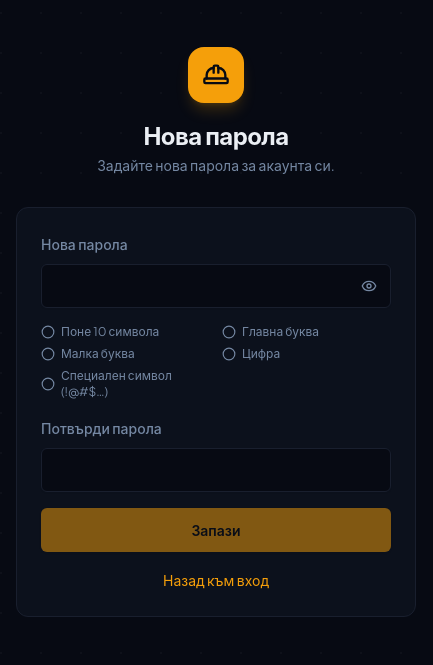
Test: a reset the server could not commit keeps the form and says to try again
Step 1. Type "Brand-New-Pass-77!" into the password field with test id "reset-new-password" → (216, 286), box [41,264,391,308]
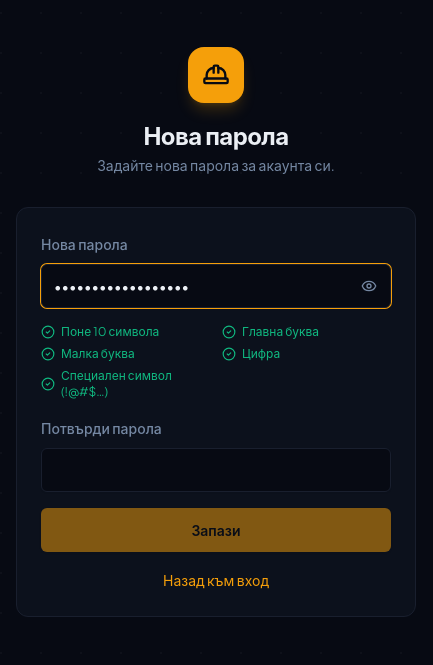
Step 2. Type "Brand-New-Pass-77!" into the password field with test id "reset-confirm-password" → (216, 470), box [41,448,391,492]
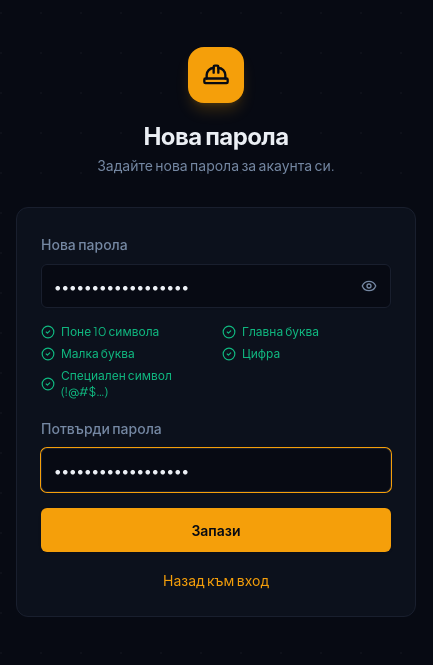
Step 3. Click the button with test id "reset-submit-button" → (216, 530), box [41,508,391,552]
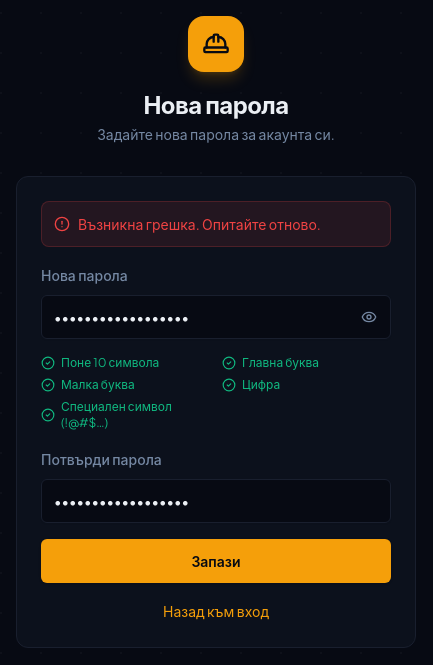
Expected: the element with test id "reset-error" shows "Опитайте отново", [78,215,321,233]
